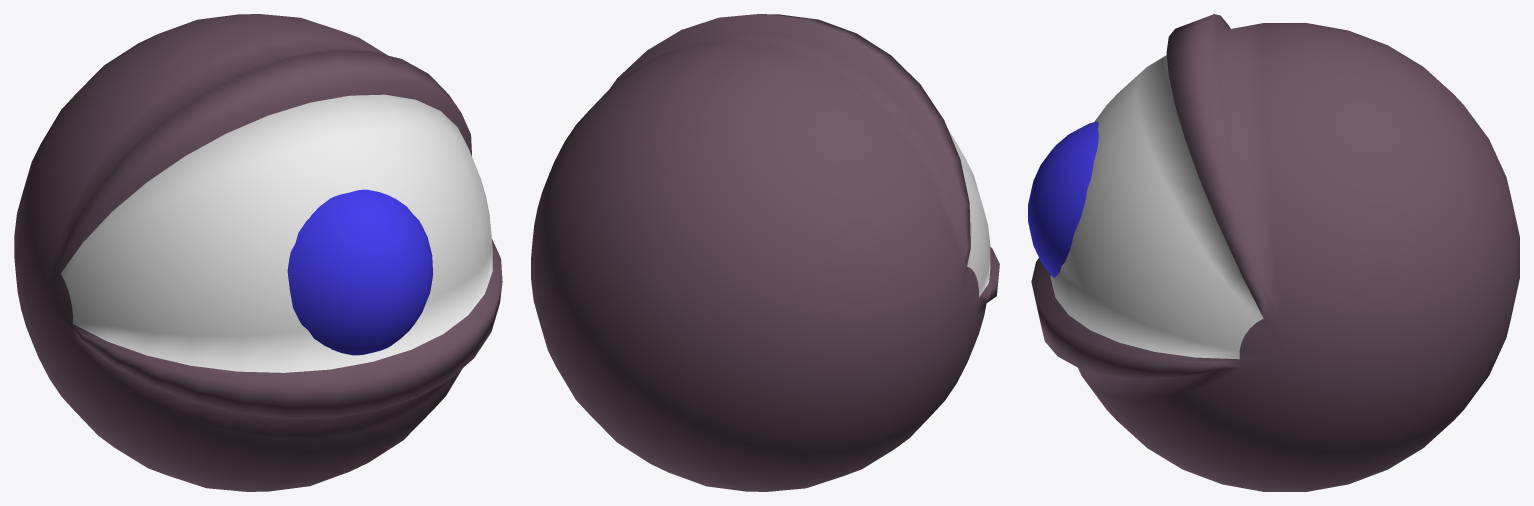
File: eyeball.glb
3 renders of one model, left to right at view 1: azimuth 30°, elevation 25°; view 2: azimuth 150°, elevation 25°; view 3: azimuth 270°, elevation 25°, orthographic. The views are drawn at different scales.
Parts seen in each view (by area): view 1: Sphere.001; view 2: Sphere.001; view 3: Sphere.001.
Boxes of the visible parts, x1,y1,x2,y2 form: Sphere.001: [14, 14, 502, 491]; Sphere.001: [531, 14, 999, 491]; Sphere.001: [1028, 14, 1519, 491].
Bounding box in the file's own units: 2 × 2.03 × 2.09.
